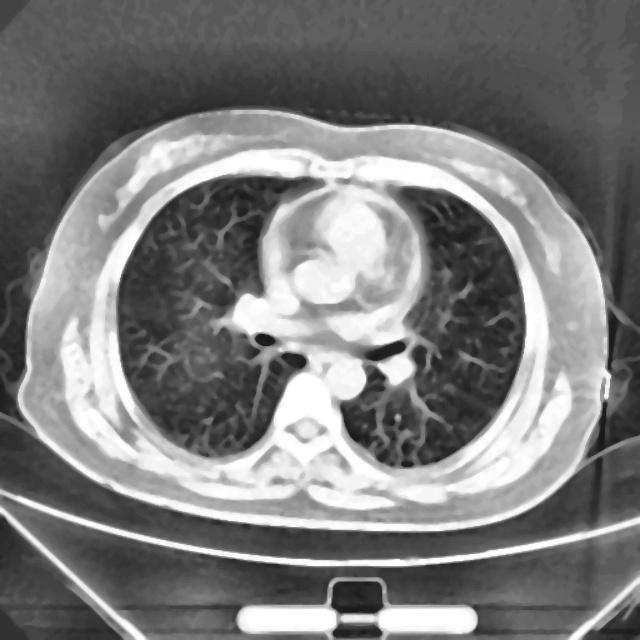covid: (15, 106, 612, 532)
